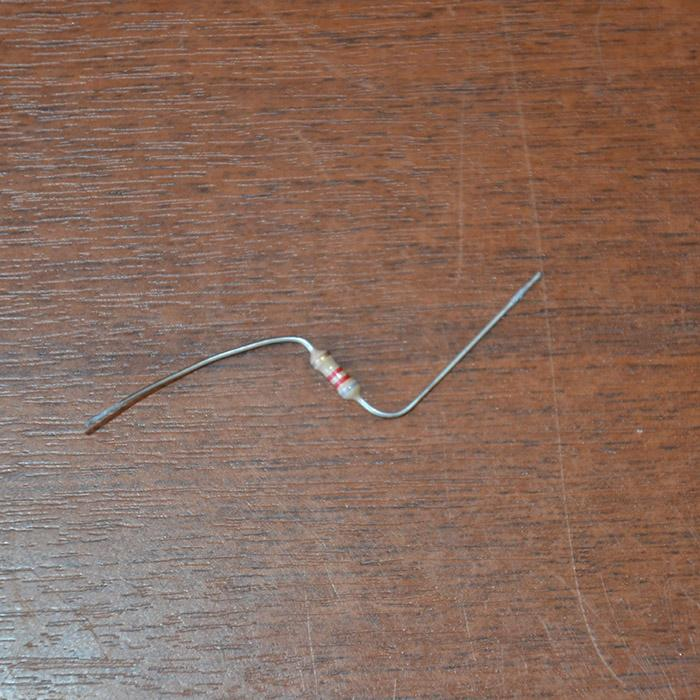resistor: (308, 347, 361, 403)
